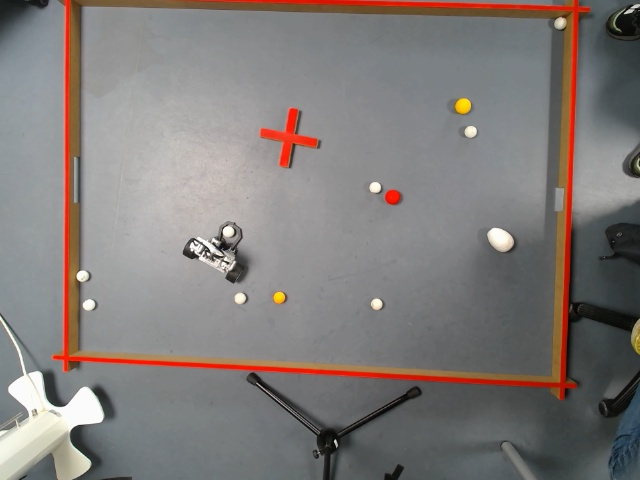big_goal: (58, 153, 86, 203)
cross: (255, 108, 318, 168)
egg: (486, 227, 512, 251)
orange: (270, 288, 288, 305)
robot: (180, 219, 246, 284)
small_goal: (550, 183, 570, 213)
wall: (48, 350, 575, 393), (548, 3, 580, 402)
white: (233, 291, 248, 303), (368, 180, 381, 192), (82, 297, 93, 311), (552, 17, 564, 29), (372, 297, 382, 311), (76, 270, 86, 282), (464, 126, 475, 135), (223, 227, 232, 237)
